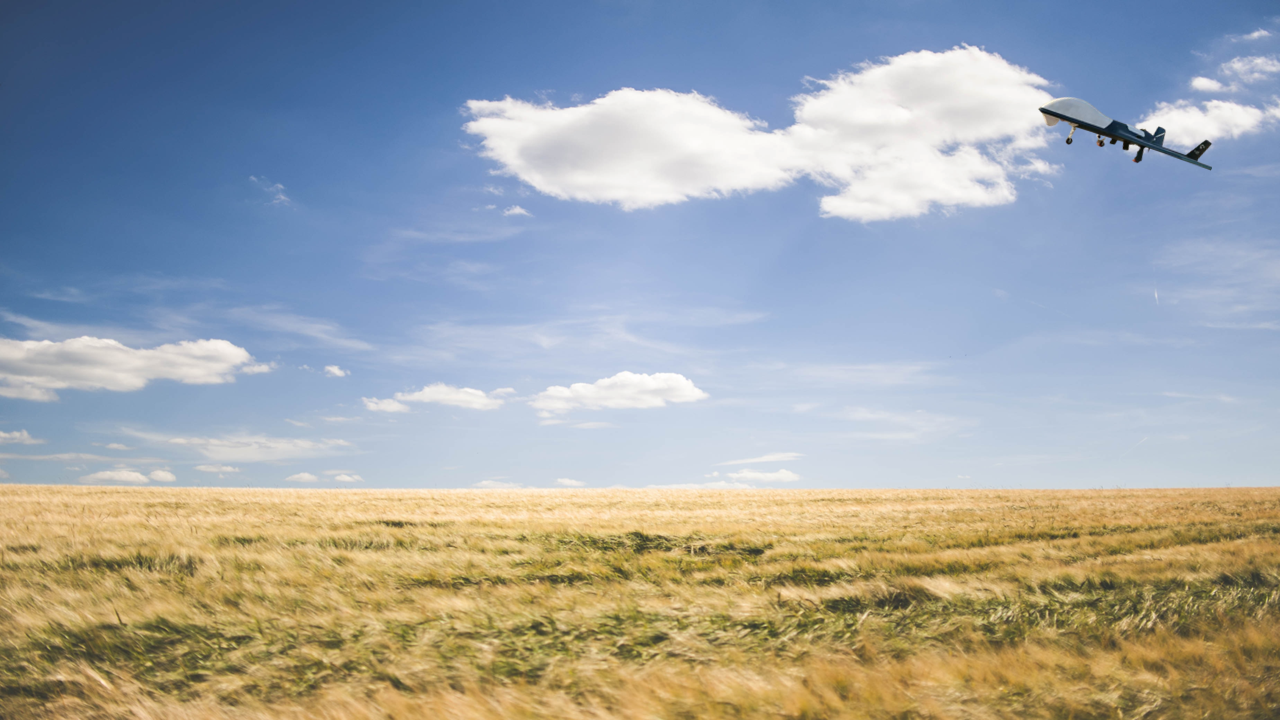military drone: (1038, 96, 1212, 171)
